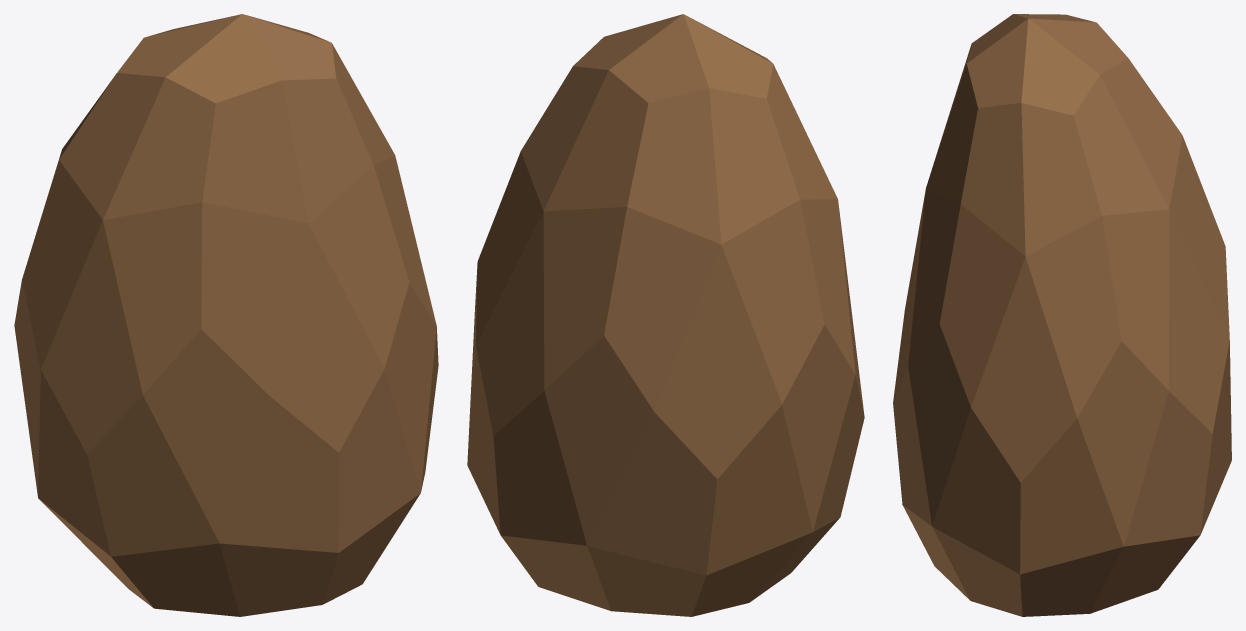
Rendered from Rock_6_Light_Brown.fbx.
3 views of the same model, side by side, from view 1: azimuth 30°, elevation 25°; view 2: azimuth 150°, elevation 25°; view 3: azimuth 270°, elevation 25° (orthographic). The views are drawn at different scales.
Visible parts, largest first — view 1: Rock_6_Light_Brown; view 2: Rock_6_Light_Brown; view 3: Rock_6_Light_Brown.
Part boxes in pixels (<box>): Rock_6_Light_Brown: <box>14,14,438,616</box>; Rock_6_Light_Brown: <box>467,14,864,616</box>; Rock_6_Light_Brown: <box>893,14,1231,616</box>.
Size of the model in its own units: 148 by 220 by 120.
